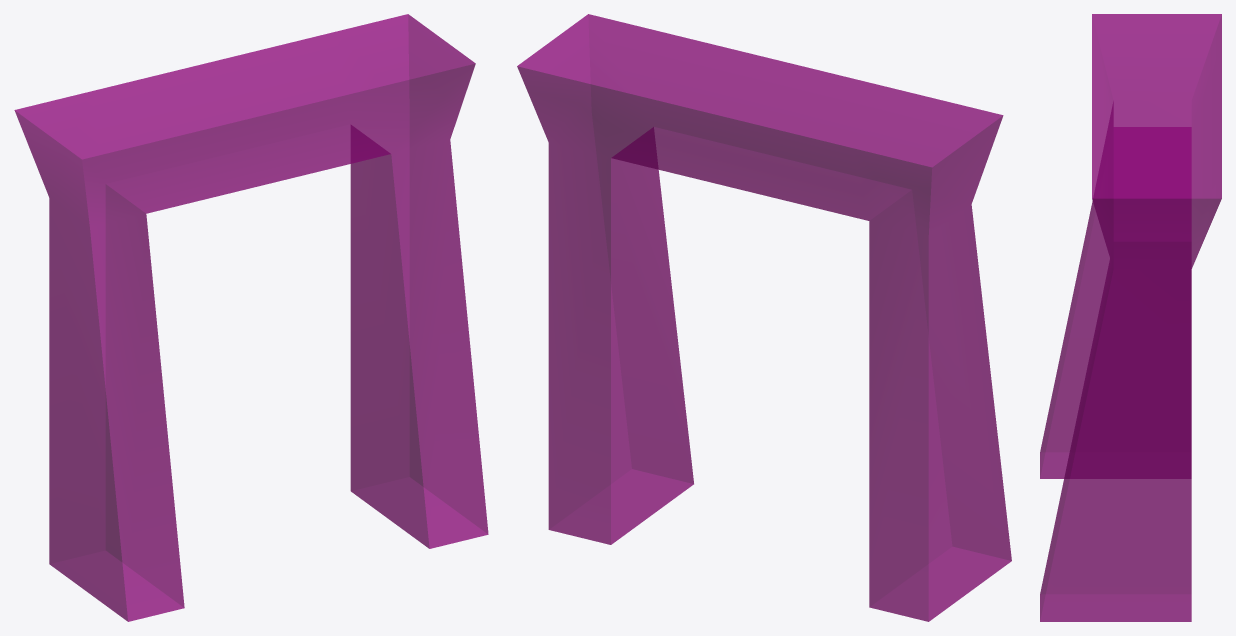
Rendered from SM_Bld_Wall_Temple_Top_Door_Double_01_Collision.fbx.
The picture shows the model from 3 angles, left to right: view 1: azimuth 30°, elevation 25°; view 2: azimuth 150°, elevation 25°; view 3: azimuth 270°, elevation 25°; orthographic projection. The views are drawn at different scales.
Parts seen in each view (by area): view 1: SM_Bld_Wall_Temple_Top_Door_Double_01_Collision; view 2: SM_Bld_Wall_Temple_Top_Door_Double_01_Collision; view 3: SM_Bld_Wall_Temple_Top_Door_Double_01_Collision.
Boxes of the visible parts, x1,y1,x2,y2 form: SM_Bld_Wall_Temple_Top_Door_Double_01_Collision: (14,14,488,621); SM_Bld_Wall_Temple_Top_Door_Double_01_Collision: (517,14,1011,621); SM_Bld_Wall_Temple_Top_Door_Double_01_Collision: (1040,14,1221,621).
Size of the model in its own units: 568 by 617 by 236.
